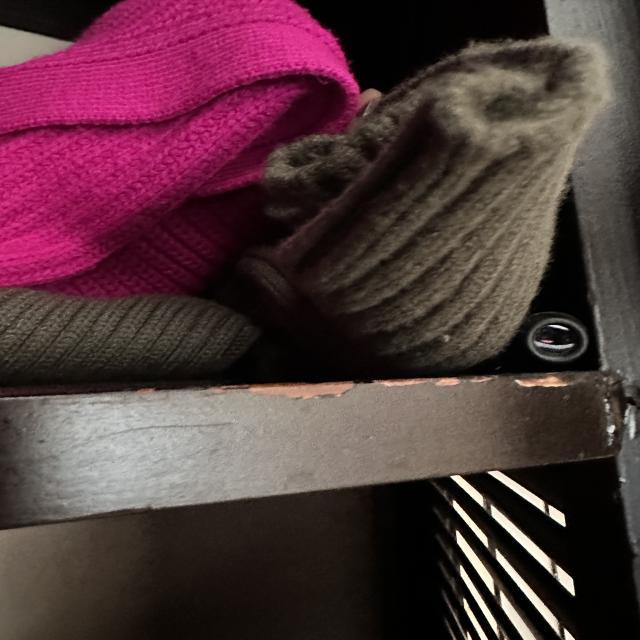hidden camera: (525, 317, 590, 362)
